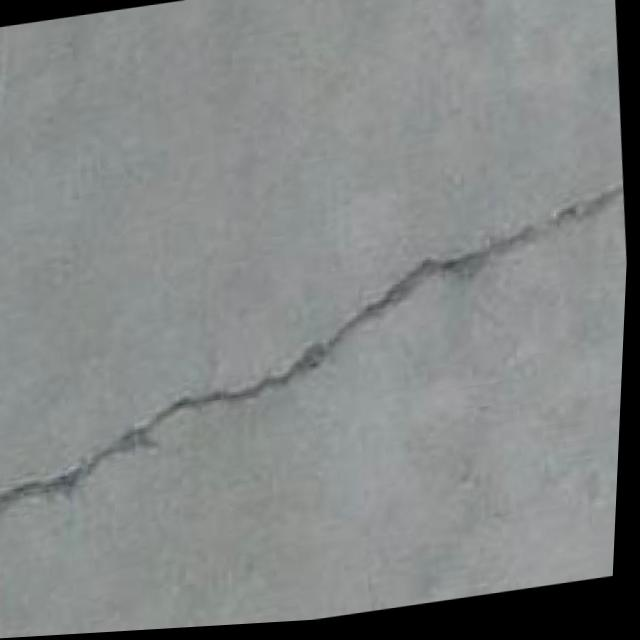Crack: (0, 176, 633, 529)
